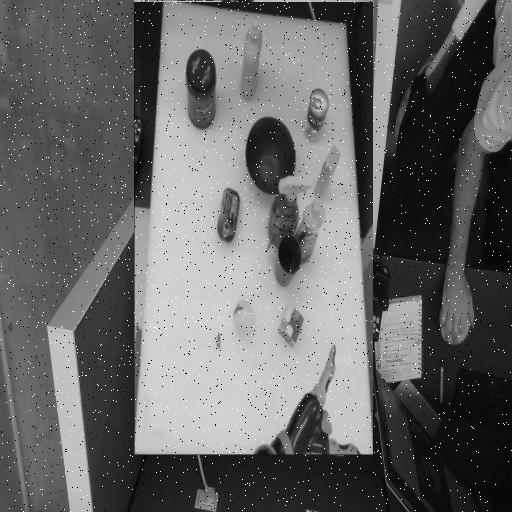bowl: (210, 275, 261, 326)
cleanser: (182, 193, 213, 258)
coffee_can: (291, 352, 320, 382)
jaco: (146, 1, 221, 110)
meat_can: (267, 214, 289, 268)
mug: (206, 182, 232, 208)
mustard_bottle: (246, 356, 266, 435)
rubik: (204, 111, 227, 153)
soup_can: (179, 330, 202, 353)
tennis_ball: (255, 121, 274, 155)
windex: (195, 214, 239, 280)
wooden_block: (167, 260, 192, 311)
workspace: (134, 2, 373, 454)
